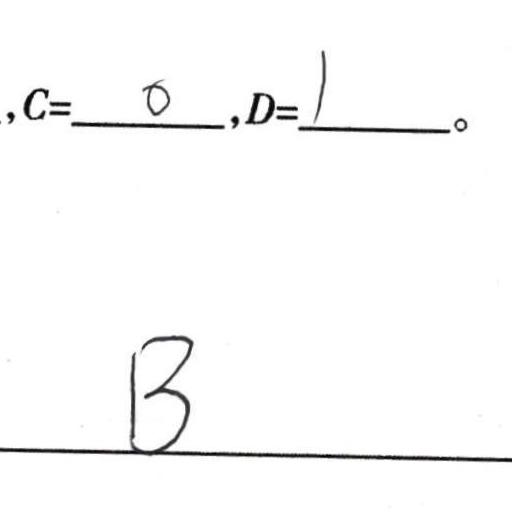ans: (118, 327, 196, 456), (307, 45, 332, 123), (140, 75, 173, 119)
